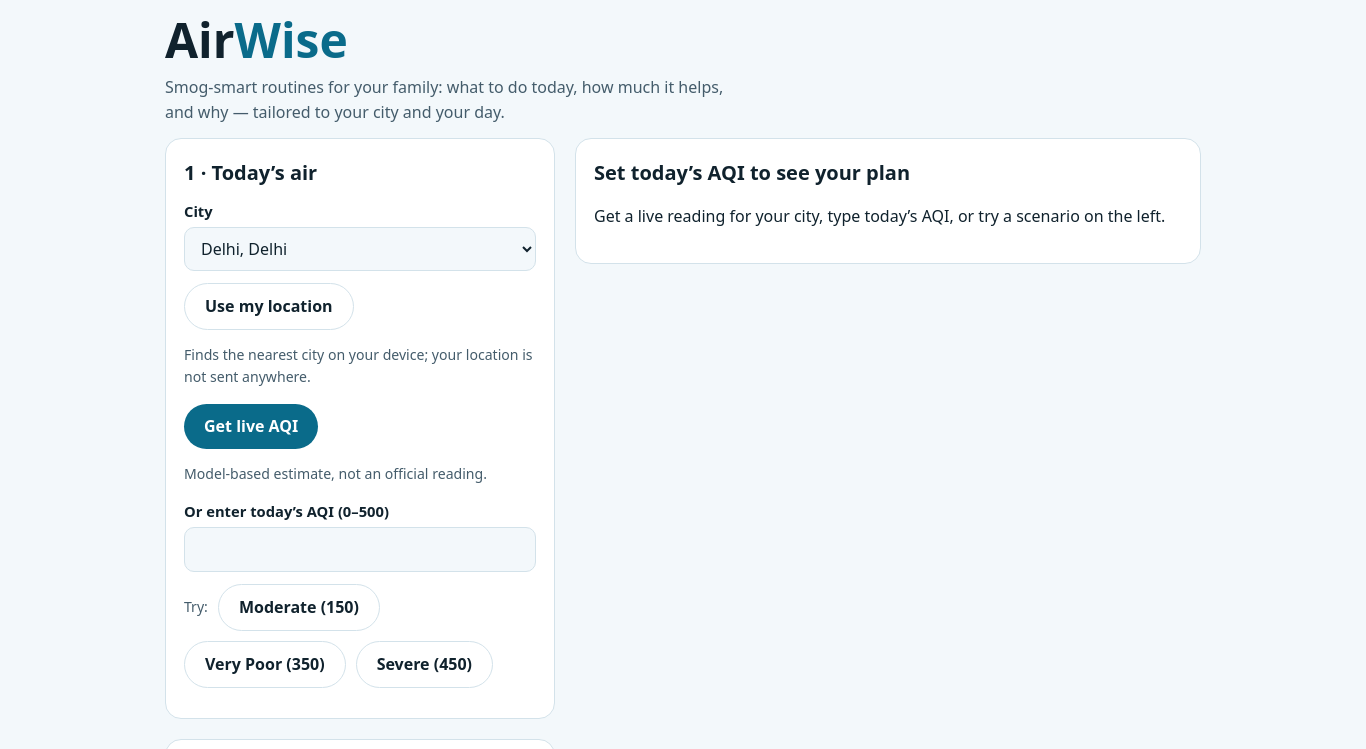
Test: live air data › shows n/a for a pollutant the provider did not report
Click the button "Get live AQI" at (251, 426), box [184,404,318,448]
(page scrolled)
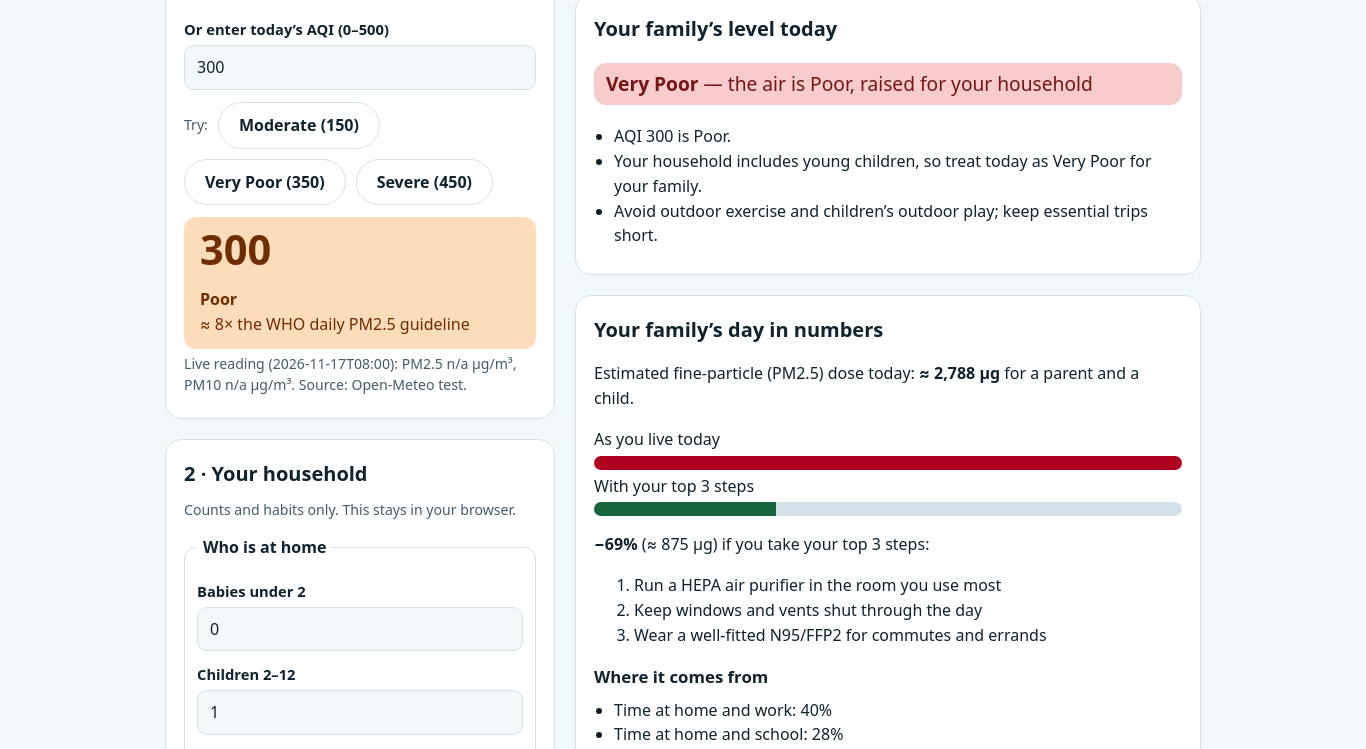
Result: the text "PM2.5 n/a µg/m³, PM10 n/a" is shown at [184,353,536,396]
